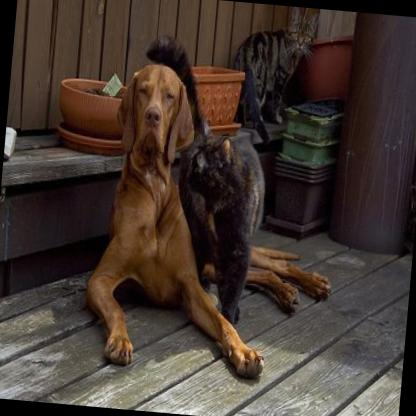vizsla: (78, 58, 346, 384)
